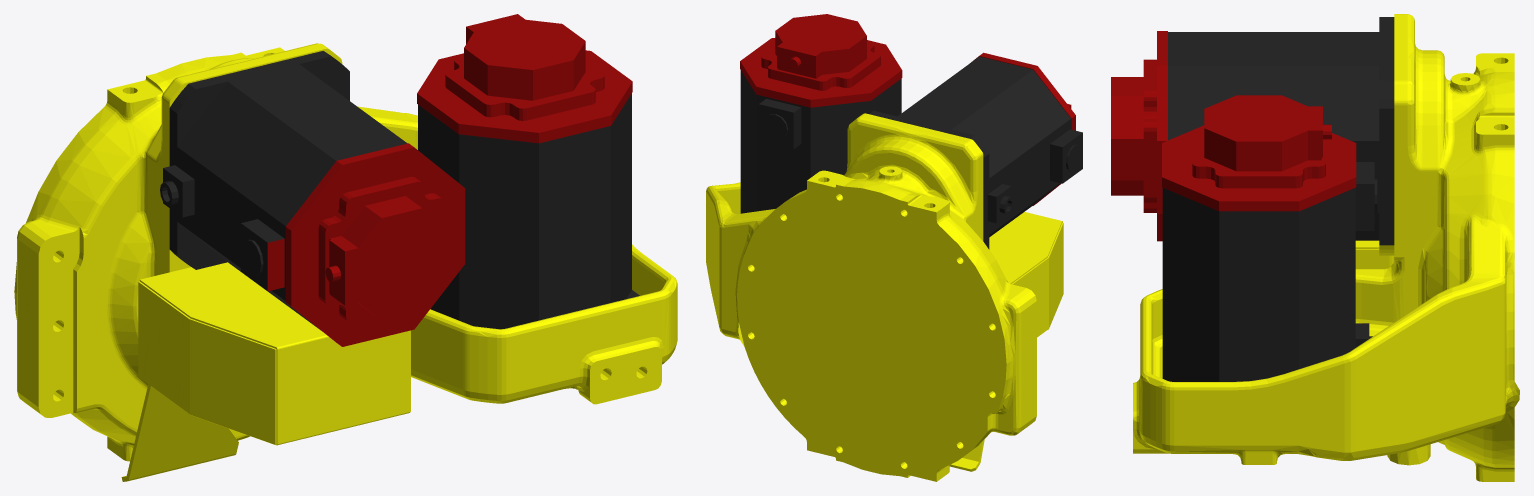
3 views of the same model, side by side, from view 1: azimuth 30°, elevation 25°; view 2: azimuth 150°, elevation 25°; view 3: azimuth 270°, elevation 25° (orthographic). The views are drawn at different scales.
Visible parts, largest first — view 1: node; view 2: node; view 3: node.
Boxes of the visible parts, x1,y1,x2,y2 form: node: (14,14,677,481); node: (706,14,1082,481); node: (1111,14,1519,481).
Size of the model in its own units: 371 by 315 by 275.
